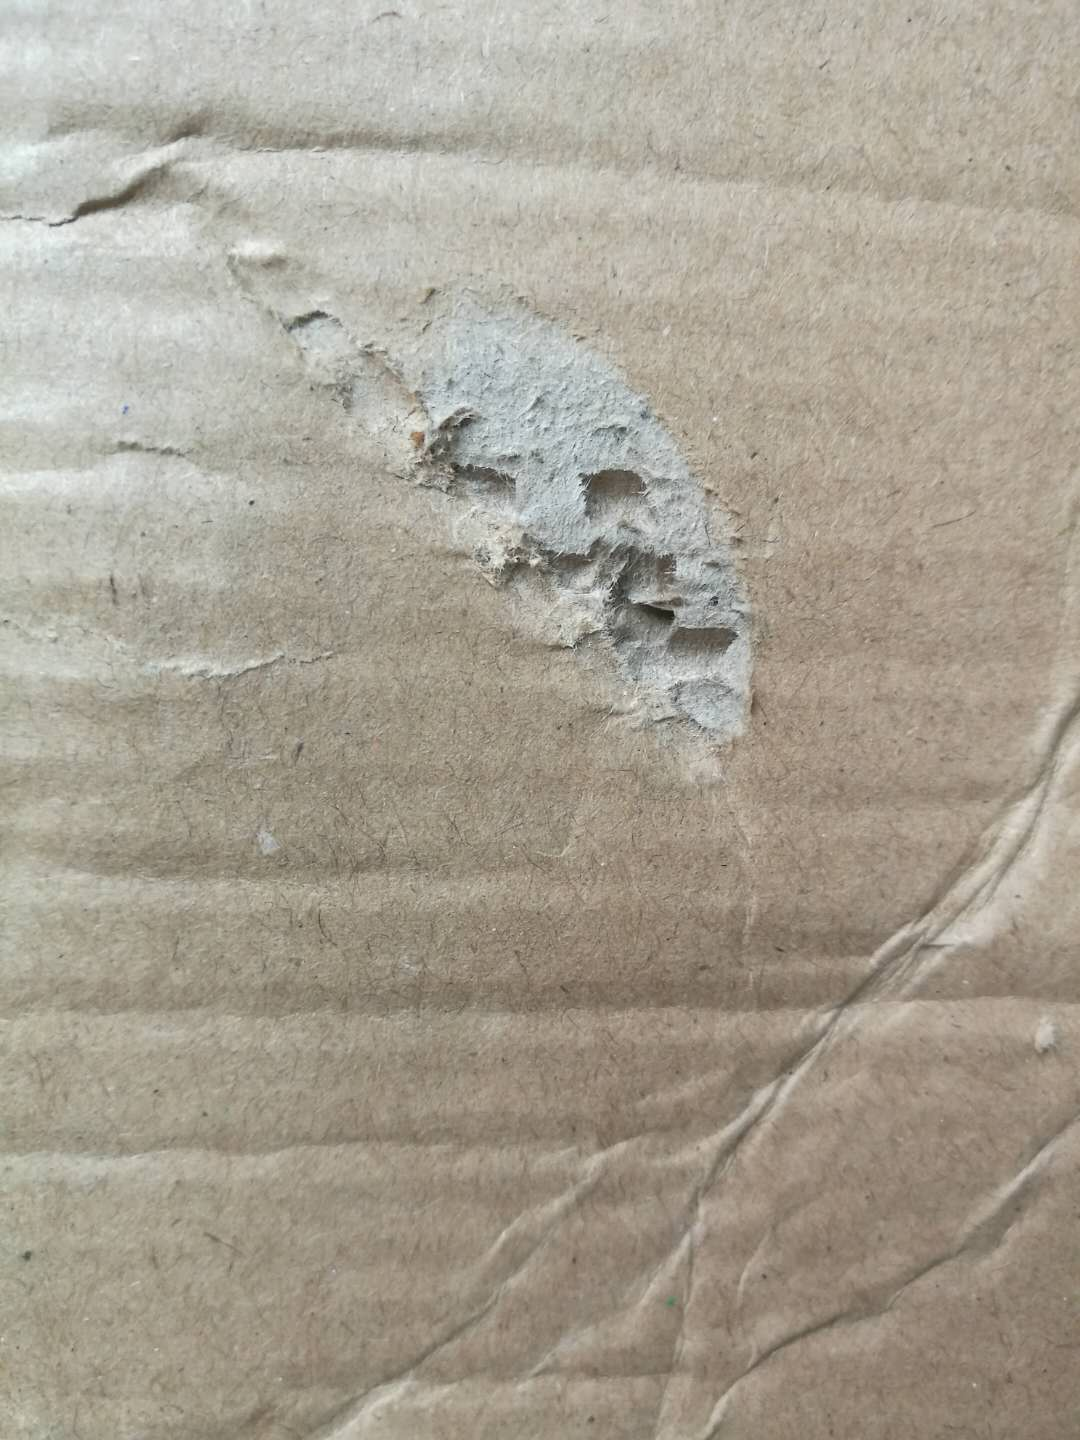defect: (212, 661, 1080, 1439), (3, 776, 1080, 1211), (246, 232, 822, 822), (2, 44, 1080, 334)
